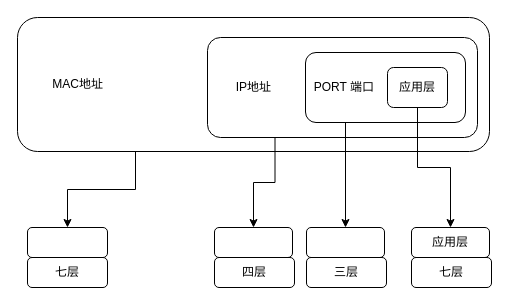
Some shapes in this 509 by 305 pixel diagram are drawn without their labels. The shapes that lost their labels are listed below. From the top down, each one's centre as x and y in pixels, then its label:
[67,242]: 链路层
[253,242]: IP层
[345,242]: TCP层
